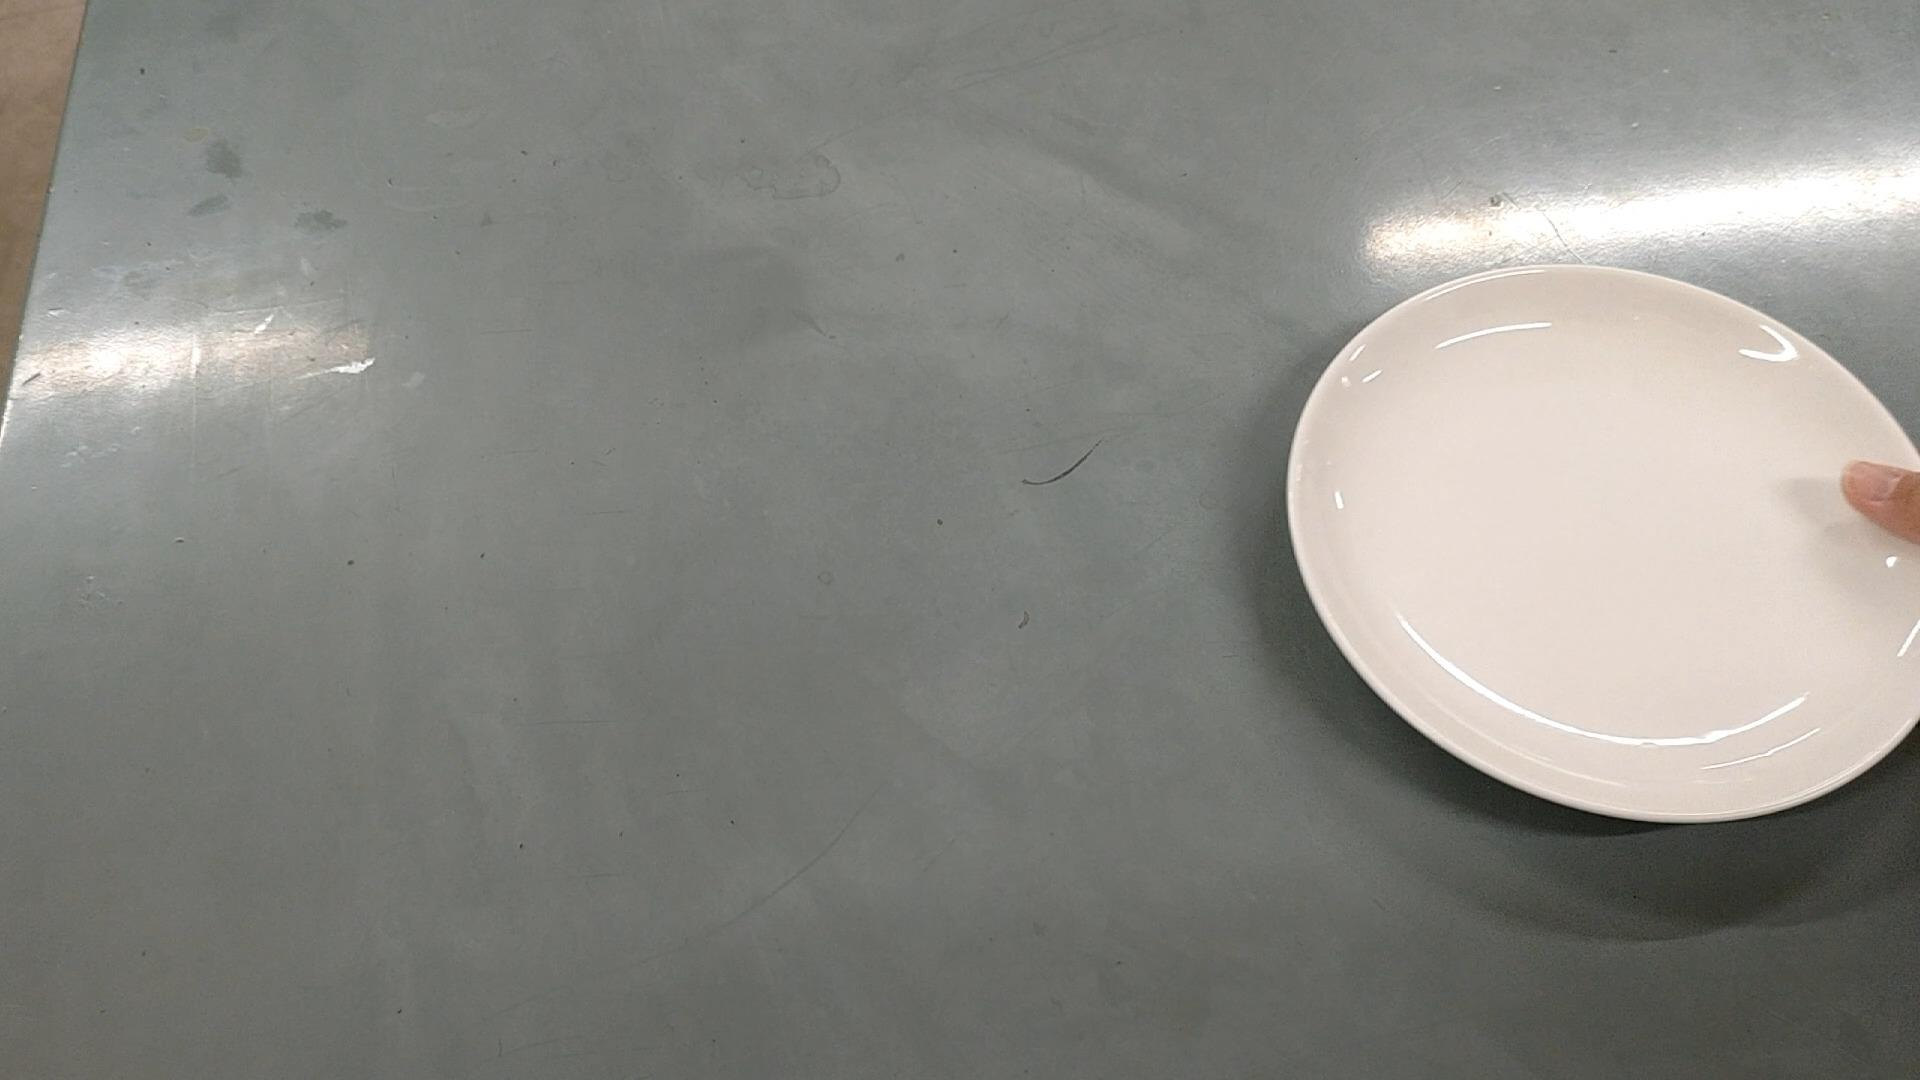plate: (1285, 255, 1920, 828)
